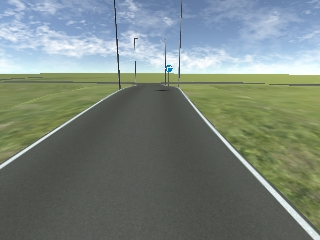right: (163, 65, 173, 74)
